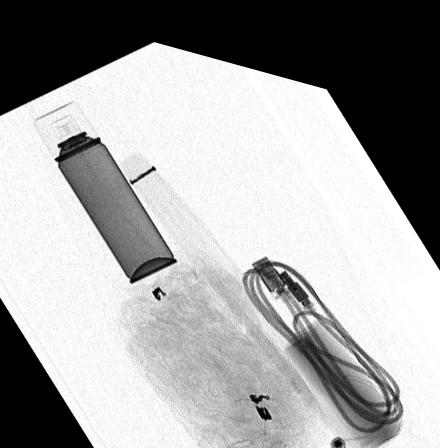Sprayer: (31, 96, 175, 275)
